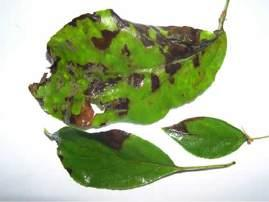Apple Scab Leaf: (21, 3, 251, 136), (45, 119, 182, 194), (161, 103, 255, 170)
